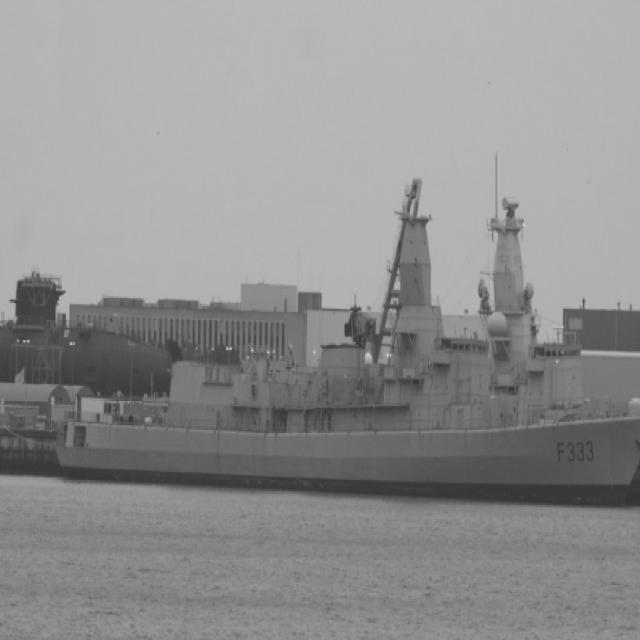Fragata: (49, 169, 640, 520)
